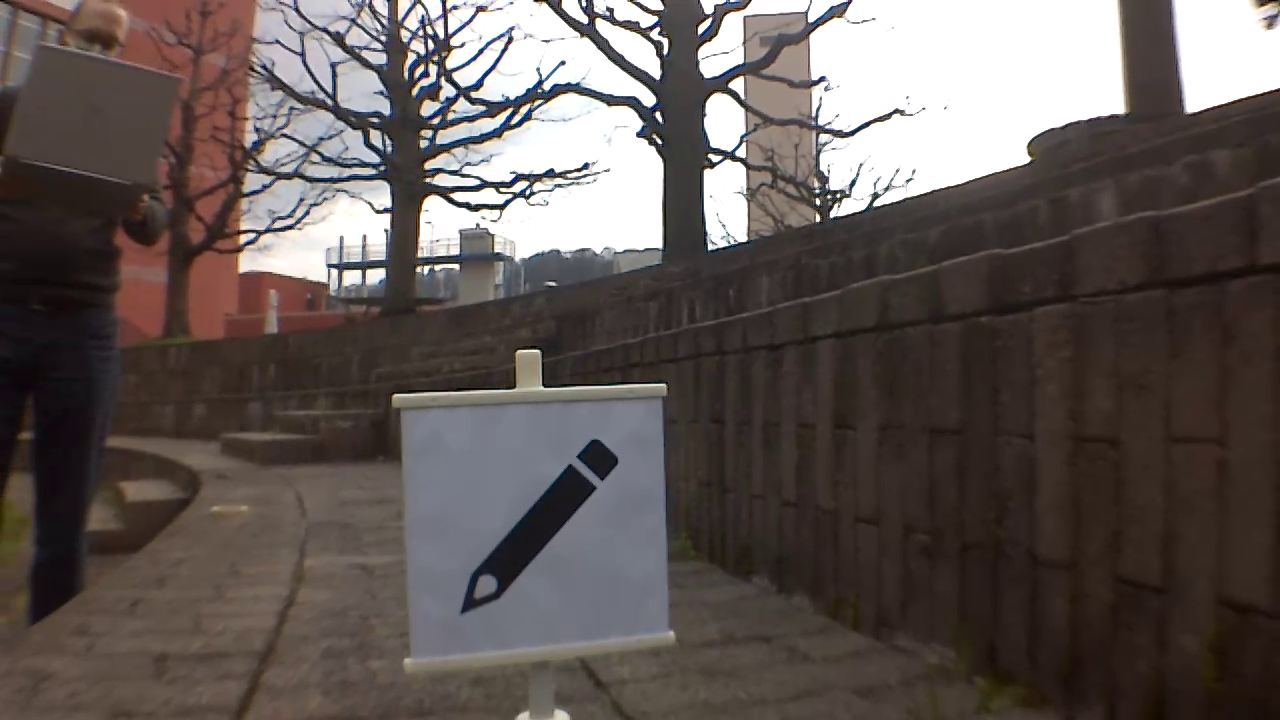pencil: (462, 437, 624, 614)
